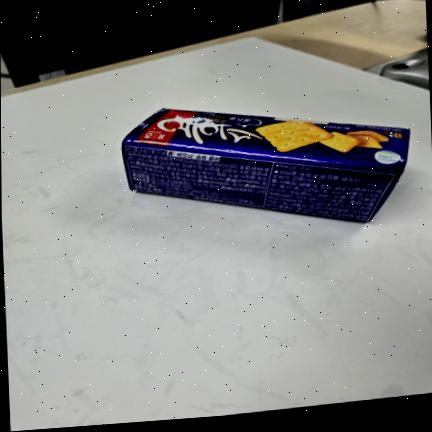cracker_ace: (122, 108, 410, 221)
